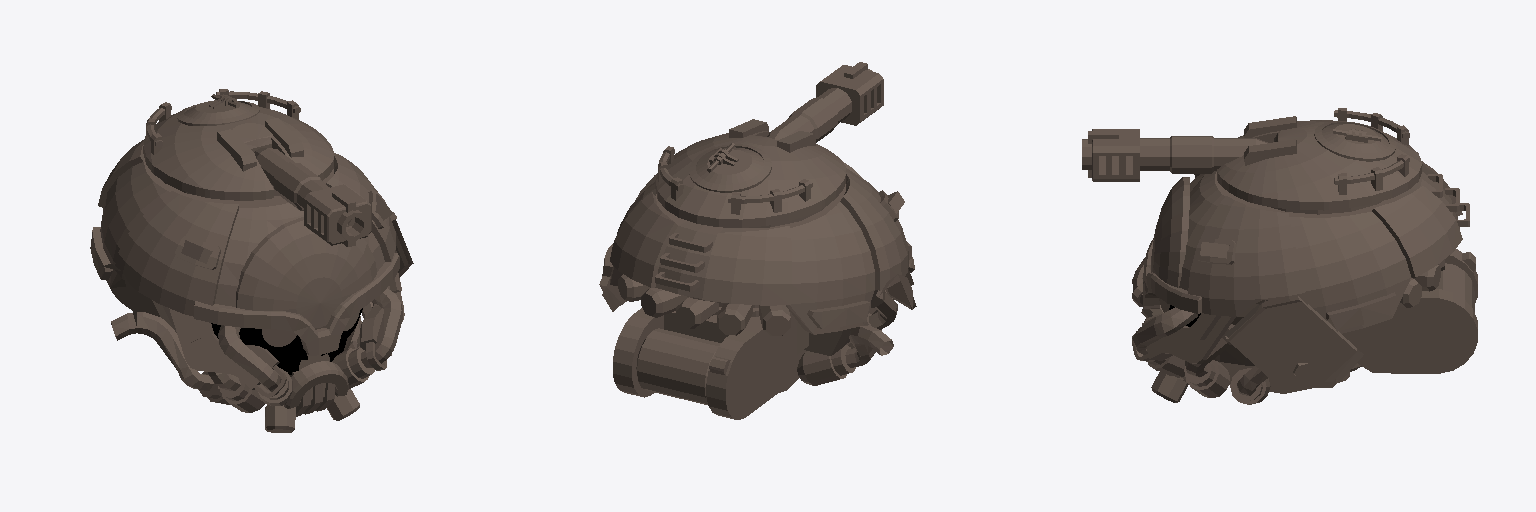
The model's file is part_head.obj.
3 views of the same model, side by side, from view 1: azimuth 30°, elevation 25°; view 2: azimuth 150°, elevation 25°; view 3: azimuth 270°, elevation 25° (orthographic).
Parts seen in each view (by area): view 1: EvilRoboBody.002_Sphere.003; view 2: EvilRoboBody.002_Sphere.003; view 3: EvilRoboBody.002_Sphere.003.
Part boxes in pixels (x1,y1,x2,y2): EvilRoboBody.002_Sphere.003: (90,89,413,432); EvilRoboBody.002_Sphere.003: (599,62,916,419); EvilRoboBody.002_Sphere.003: (1082,108,1477,404).
Size of the model in its own units: 2.06 by 1.93 by 2.64.